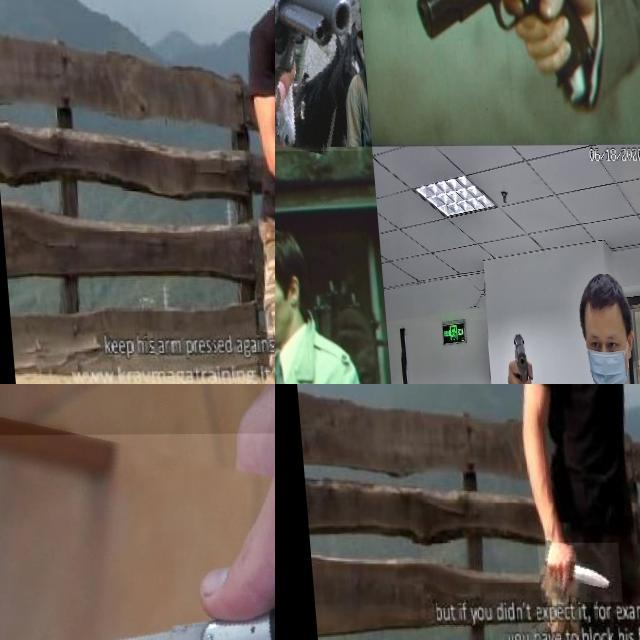-: (0, 433, 275, 640), (529, 544, 614, 602)
gun-knife-thesis - v11 Yolov5 augmented: (403, 0, 589, 102), (275, 0, 356, 151), (275, 252, 307, 336), (493, 329, 522, 384)
